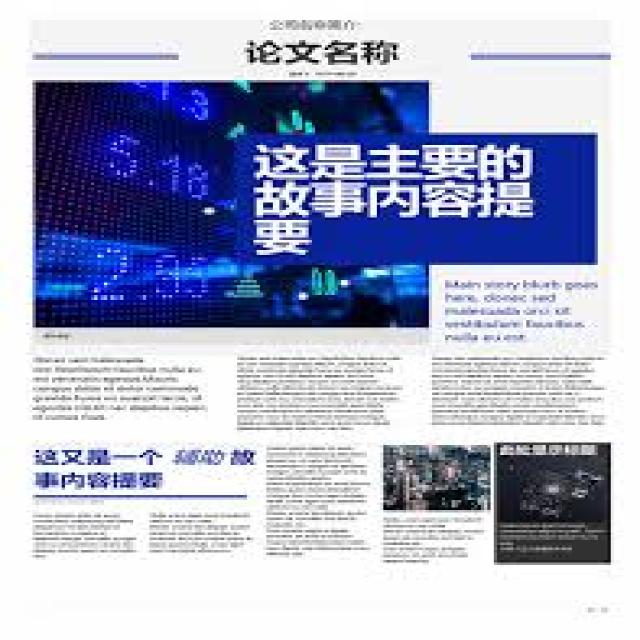paper: (37, 8, 640, 638)
